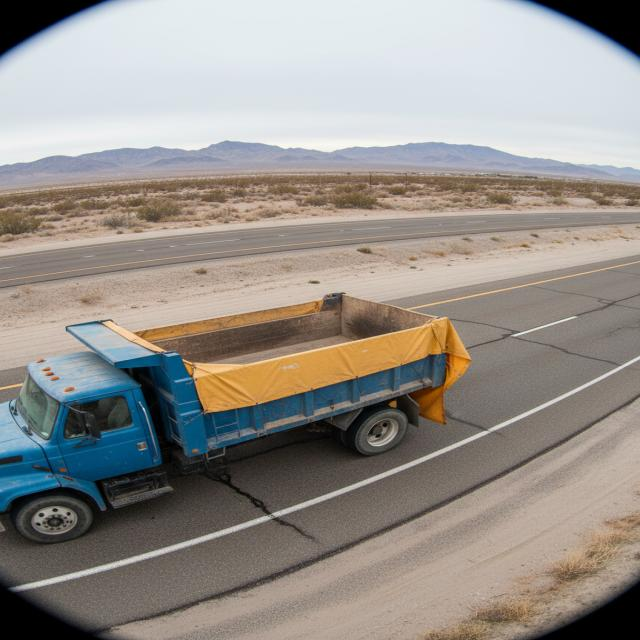Box: (70, 293, 481, 367)
Truck: (6, 279, 548, 541)
